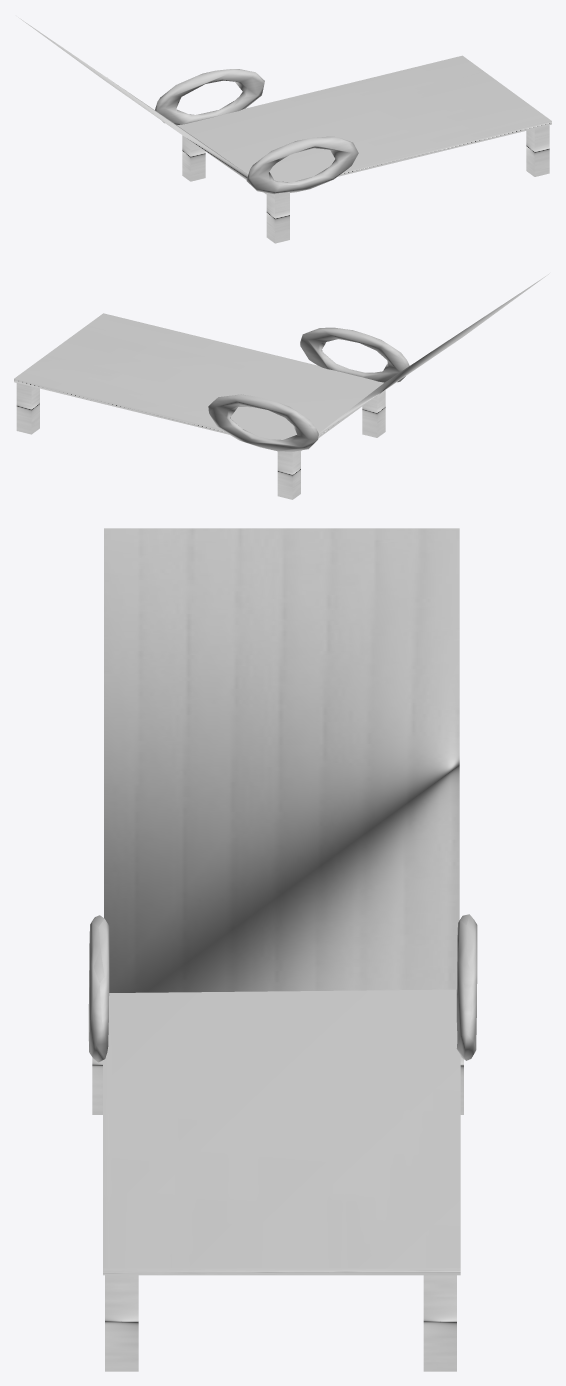
File: camp chair.dae
The picture shows the model from 3 angles, top to bottom: view 1: azimuth 30°, elevation 25°; view 2: azimuth 150°, elevation 25°; view 3: azimuth 270°, elevation 25°; orthographic projection. The views are drawn at different scales.
Visible parts, largest first — view 1: Cube_001; view 2: Cube_001; view 3: Cube_001.
Part boxes in pixels (x1,y1,x2,y2): Cube_001: [18, 17, 551, 243]; Cube_001: [14, 273, 549, 499]; Cube_001: [88, 528, 477, 1371].
Bounding box in the file's own units: 0.9262 × 0.3471 × 0.401.
Materials: 7 (7 with a texture image).
